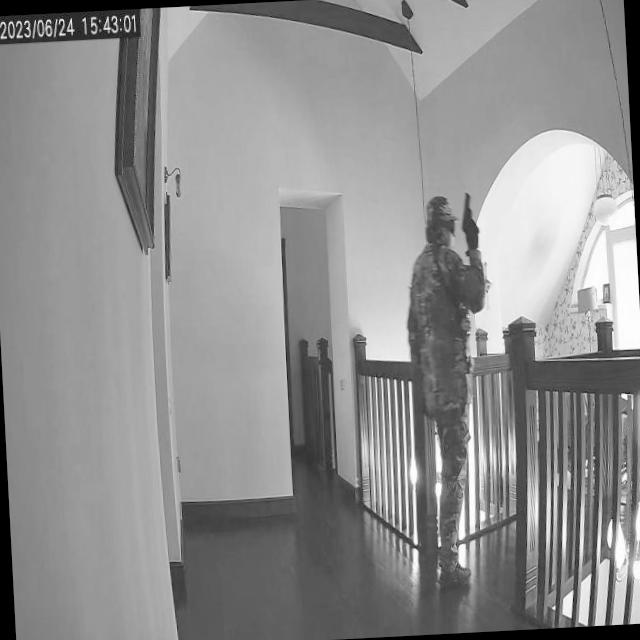gun: (460, 193, 480, 244)
person with a gun: (401, 183, 502, 593)
